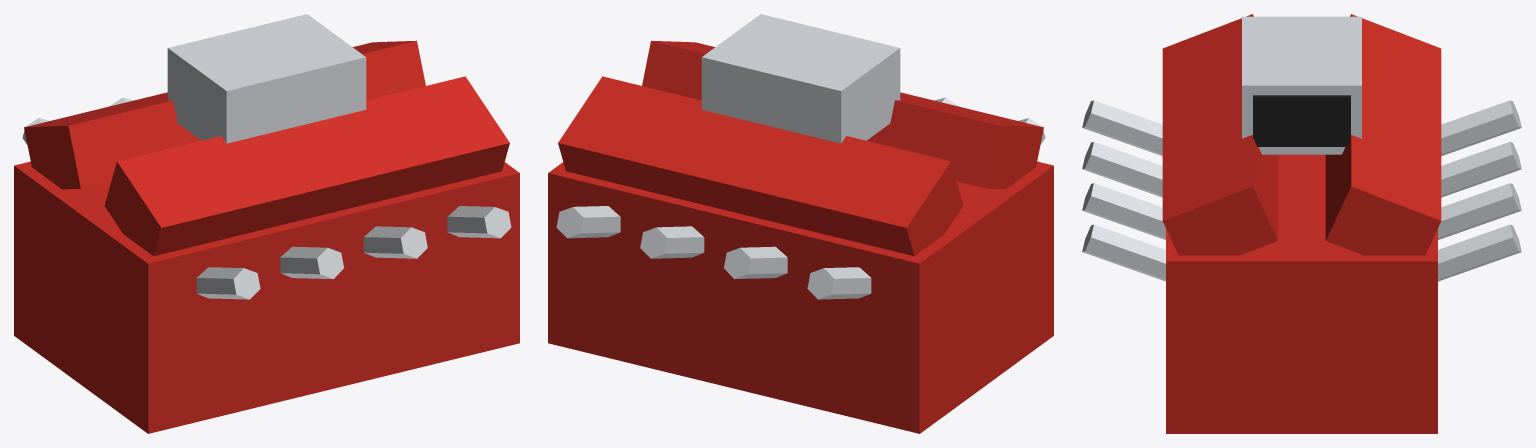
The model's file is racing_engine.glb.
The picture shows the model from 3 angles, left to right: view 1: azimuth 30°, elevation 25°; view 2: azimuth 150°, elevation 25°; view 3: azimuth 270°, elevation 25°; orthographic projection.
Visible parts, largest first — view 1: block_engine_red, heads_engine_red, scoop_engine_chrome, pipes_engine_chrome; view 2: block_engine_red, heads_engine_red, scoop_engine_chrome, pipes_engine_chrome; view 3: block_engine_red, heads_engine_red, pipes_engine_chrome, scoop_engine_chrome, scoop_engine_black.
Boxes of the visible parts, x1,y1,x2,y2 form: block_engine_red: (14, 161, 519, 433); heads_engine_red: (24, 40, 509, 256); scoop_engine_chrome: (167, 14, 366, 143); pipes_engine_chrome: (22, 97, 511, 299); block_engine_red: (548, 161, 1053, 433); heads_engine_red: (558, 40, 1043, 256); scoop_engine_chrome: (701, 14, 900, 143); pipes_engine_chrome: (556, 97, 1045, 299); block_engine_red: (1166, 154, 1437, 433); heads_engine_red: (1162, 14, 1441, 255); pipes_engine_chrome: (1082, 100, 1521, 281); scoop_engine_chrome: (1242, 16, 1361, 154); scoop_engine_black: (1253, 95, 1350, 146).
Size of the model in its own units: 0.8 by 0.59 by 0.8081.
